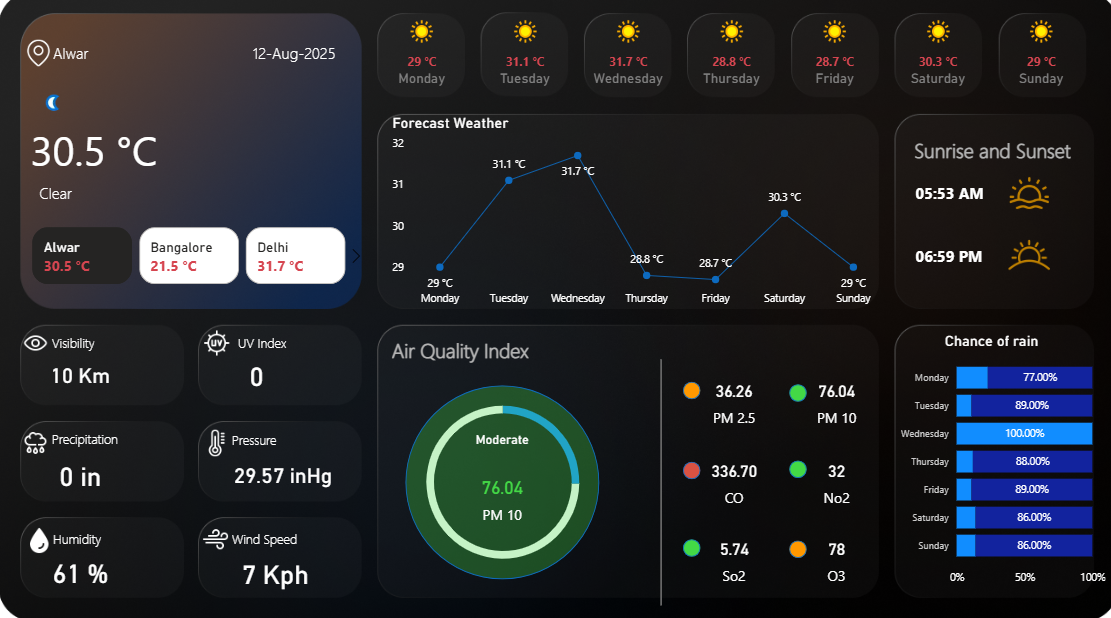

Layout of this report page (visuals, bound fields, positions):
{"tool":"powerbi","page":{"name":"Page 1","canvas":[1280,720],"ordinal":0},"visuals":[{"type":"donutChart","fields":{"Y":["Sum(current.current.air_quality.pm10)","_Measures.Left_value_PM10"]},"box":[462.9,430,228.6,258.6],"z":0},{"type":"shape","box":[465.7,448.6,221.4,221.4],"z":1000},{"type":"advancedSlicerVisual","fields":{"Values":["Locations.location.name"]},"box":[14.3,262.9,410,75.7],"z":2000},{"type":"shape","box":[37.1,102.9,365.7,150],"z":3000},{"type":"shape","box":[47.1,204.3,365.7,48.6],"z":4000},{"type":"shape","box":[62.9,44.3,145.7,48.6],"z":5000},{"type":"image","box":[14.3,48.6,64.3,40],"z":6000},{"type":"shape","box":[282.9,44.3,102.9,48.6],"z":7000},{"type":"cardVisual","fields":{"Data":["Min(current.current.condition.icon)"]},"box":[17.1,78.6,90,87.1],"z":8000},{"type":"image","box":[22.9,380,40,40],"z":9000},{"type":"shape","box":[267.1,601.4,90,45.7],"z":10000},{"type":"shape","box":[267.1,487.1,118.6,47.1],"z":11000},{"type":"shape","box":[274.3,377.1,118.6,45.7],"z":12000},{"type":"image","box":[27.1,605.7,40,40],"z":13000},{"type":"image","box":[230,380,40,40],"z":14000},{"type":"image","box":[22.9,494.3,40,40],"z":15000},{"type":"image","box":[230,494.3,40,40],"z":16000},{"type":"image","box":[228.6,604.3,40,40],"z":17000},{"type":"shape","box":[62.9,601.4,118.6,45.7],"z":18000},{"type":"shape","box":[61.4,487.1,118.6,45.7],"z":19000},{"type":"shape","box":[61.4,377.1,118.6,45.7],"z":20000},{"type":"card","fields":{"Values":["_Measures.Humidity_in_Percent"]},"box":[47.1,624.3,94.3,74.3],"z":21000},{"type":"card","fields":{"Values":["_Measures.Wind_Speed"]},"box":[248.6,625.7,137.1,74.3],"z":22000},{"type":"card","fields":{"Values":["_Measures.Precipitaion_in_inch"]},"box":[47.1,514.3,94.3,74.3],"z":23000},{"type":"card","fields":{"Values":["_Measures.Pressure_inHg"]},"box":[248.6,514.3,154.3,74.3],"z":24000},{"type":"card","fields":{"Values":["_Measures.Visibility_in_Km"]},"box":[47.1,400,94.3,74.3],"z":25000},{"type":"card","fields":{"Values":["Sum(current.current.uv)"]},"box":[248.6,400,94.3,74.3],"z":26000},{"type":"advancedSlicerVisual","fields":{"Values":["Real_Forecast_by_day.Day_Name"]},"box":[424.3,14.3,832.9,108.6],"z":27000},{"type":"lineChart","title":"Forecast Weather","fields":{"Y":["Sum(Real_Forecast_by_day.forecast.forecastday.day.avgtemp_c)"],"Category":["Real_Forecast_by_day.Day_Name"]},"box":[445.7,138.6,568.6,228.6],"z":28000},{"type":"shape","box":[1047.1,155.7,190,45.7],"z":29000},{"type":"shape","box":[1048.6,204.3,117.1,48.6],"z":30000},{"type":"shape","box":[1048.6,277.1,117.1,47.1],"z":31000},{"type":"image","box":[1151.4,201.4,54.3,54.3],"z":32000},{"type":"image","box":[1135.7,262.9,85.7,72.9],"z":33000},{"type":"hundredPercentStackedBarChart","title":"Chance of rain","fields":{"Y":["_Measures.Left_Value_Rain","Sum(Real_Forecast_by_day.forecast.forecastday.day.daily_chance_of_rain)"],"Category":["Real_Forecast_by_day.Day_Name"]},"box":[1005.7,387.1,260,294.3],"z":34000},{"type":"card","fields":{"Values":["Sum(current.current.air_quality.so2)"]},"box":[794.3,610,94.3,74.3],"z":35000},{"type":"shape","box":[450,384.3,174.3,45.7],"z":36000},{"type":"card","fields":{"Values":["Sum(current.current.air_quality.co)"]},"box":[794.3,521.4,94.3,74.3],"z":37000},{"type":"card","fields":{"Values":["Sum(current.current.air_quality.pm2_5)"]},"box":[794.3,430,94.3,74.3],"z":38000},{"type":"card","fields":{"Values":["Sum(current.current.air_quality.o3)"]},"box":[911.4,610,94.3,74.3],"z":39000},{"type":"card","fields":{"Values":["Sum(current.current.air_quality.no2)"]},"box":[911.4,521.4,94.3,74.3],"z":40000},{"type":"card","fields":{"Values":["Sum(current.current.air_quality.pm10)"]},"box":[911.4,430,94.3,74.3],"z":41000},{"type":"shape","box":[782.9,444.3,20,20],"z":42000},{"type":"shape","box":[782.9,535.7,20,20],"z":43000},{"type":"shape","box":[782.9,624.3,20,20],"z":44000},{"type":"shape","box":[904.3,447.1,20,20],"z":45000},{"type":"shape","box":[904.3,534.3,20,20],"z":46000},{"type":"shape","box":[904.3,625.7,20,20],"z":47000},{"type":"shape","box":[712.9,418.6,90,281.4],"z":48000},{"type":"card","fields":{"Values":["Sum(current.current.air_quality.pm10)"]},"box":[510,501.4,132.9,132.9],"z":49000}]}

Visuals, with their boxes in screenshot pixels (x1, y1, x2, y2), scaled from the page's 1280x720 canvas onto the 1111x618 screenshot:
donutChart - Sum(current.current.air_quality.pm10) x _Measures.Left_value_PM10: (402, 369, 600, 591)
shape: (404, 385, 596, 575)
advancedSlicerVisual - Locations.location.name: (12, 226, 368, 291)
shape: (32, 88, 350, 217)
shape: (41, 175, 358, 217)
shape: (55, 38, 181, 80)
image: (12, 42, 68, 76)
shape: (246, 38, 335, 80)
cardVisual - Min(current.current.condition.icon): (15, 67, 93, 142)
image: (20, 326, 55, 360)
shape: (232, 516, 310, 555)
shape: (232, 418, 335, 459)
shape: (238, 324, 341, 363)
image: (24, 520, 58, 554)
image: (200, 326, 234, 360)
image: (20, 424, 55, 459)
image: (200, 424, 234, 459)
image: (198, 519, 233, 553)
shape: (55, 516, 158, 555)
shape: (53, 418, 156, 457)
shape: (53, 324, 156, 363)
card - _Measures.Humidity_in_Percent: (41, 536, 123, 600)
card - _Measures.Wind_Speed: (216, 537, 335, 601)
card - _Measures.Precipitaion_in_inch: (41, 441, 123, 505)
card - _Measures.Pressure_inHg: (216, 441, 350, 505)
card - _Measures.Visibility_in_Km: (41, 343, 123, 407)
card - Sum(current.current.uv): (216, 343, 298, 407)
advancedSlicerVisual - Real_Forecast_by_day.Day_Name: (368, 12, 1091, 105)
"Forecast Weather" lineChart: (387, 119, 880, 315)
shape: (909, 134, 1074, 173)
shape: (910, 175, 1012, 217)
shape: (910, 238, 1012, 278)
image: (999, 173, 1047, 219)
image: (986, 226, 1060, 288)
"Chance of rain" hundredPercentStackedBarChart: (873, 332, 1099, 585)
card - Sum(current.current.air_quality.so2): (689, 524, 771, 587)
shape: (391, 330, 542, 369)
card - Sum(current.current.air_quality.co): (689, 448, 771, 511)
card - Sum(current.current.air_quality.pm2_5): (689, 369, 771, 433)
card - Sum(current.current.air_quality.o3): (791, 524, 873, 587)
card - Sum(current.current.air_quality.no2): (791, 448, 873, 511)
card - Sum(current.current.air_quality.pm10): (791, 369, 873, 433)
shape: (680, 381, 697, 399)
shape: (680, 460, 697, 477)
shape: (680, 536, 697, 553)
shape: (785, 384, 802, 401)
shape: (785, 459, 802, 476)
shape: (785, 537, 802, 554)
shape: (619, 359, 697, 601)
card - Sum(current.current.air_quality.pm10): (443, 430, 558, 544)
